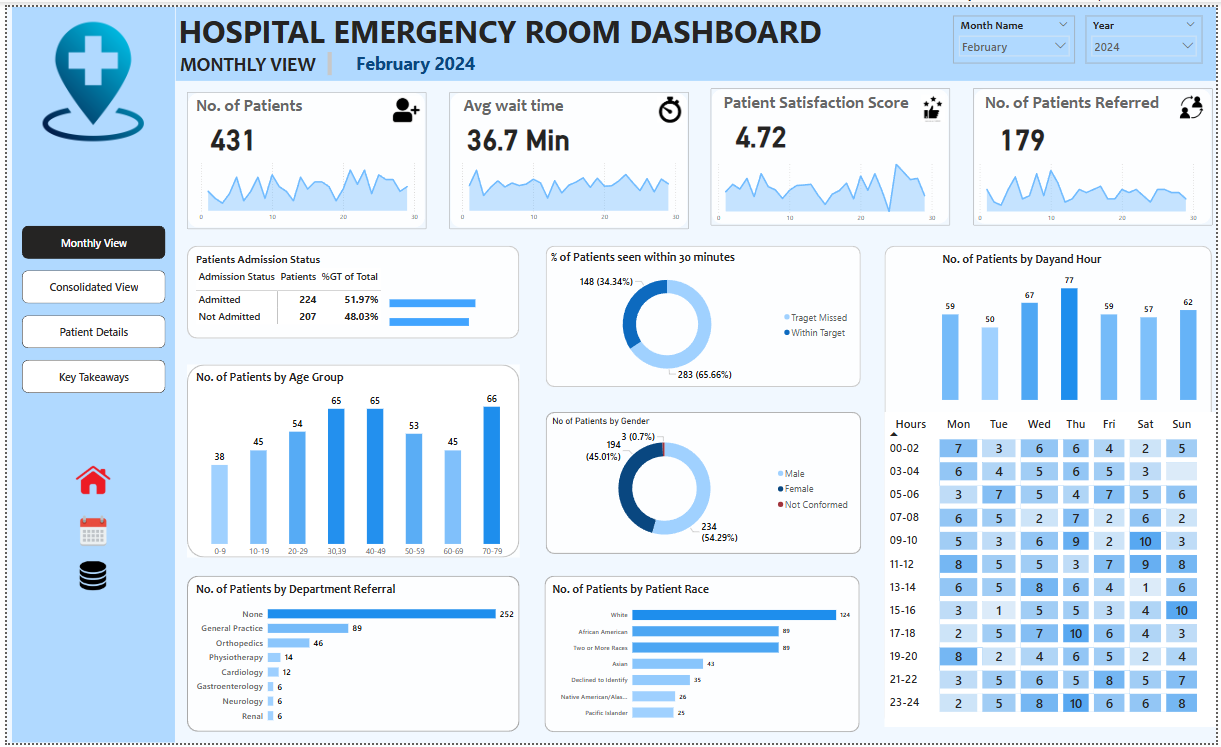

What the dashboard file says about the page in this screenshot:
{"tool":"powerbi","page":{"name":"Page 1","canvas":[2300,1400],"ordinal":0},"visuals":[{"type":"shape","box":[343.2,160.7,455,260.5],"z":0},{"type":"shape","box":[10,0,310,1399],"z":1000},{"type":"shape","box":[320.5,0,1980,140.5],"z":2000},{"type":"textbox","box":[321.3,0,1258.6,126.6],"z":3000},{"type":"textbox","box":[355.4,160.7,236.1,63.3],"z":4000},{"type":"card","fields":{"Values":["Hospital ER_Data.No. of Patients"]},"box":[355.4,199.6,153.4,92.5],"z":5000},{"type":"slicer","fields":{"Values":["Date Table.Year"]},"box":[2052.2,17,221.5,90.1],"z":6000},{"type":"slicer","fields":{"Values":["Date Table.Month"]},"box":[1799,17,231.3,90.1],"z":7000},{"type":"textbox","box":[321.3,77.9,299.4,56],"z":8000},{"type":"card","fields":{"Values":["Min(Date Table.Month & Year)"]},"box":[640.2,70.6,275.1,70.6],"z":9000},{"type":"areaChart","fields":{"Category":["Date Table.Date.Variation.Date Hierarchy.Day"],"Y":["Hospital ER_Data.No. of Patients"]},"box":[355.4,282.4,435.8,133.9],"z":10000},{"type":"shape","box":[841.2,160.7,455,260.5],"z":11000},{"type":"textbox","box":[864.2,160.7,990.8,63.3],"z":12000},{"type":"card","fields":{"Values":["Hospital ER_Data.Avg wait time"]},"box":[842.3,199.6,262.9,92.5],"z":13000},{"type":"areaChart","fields":{"Category":["Date Table.Date.Variation.Date Hierarchy.Day"],"Y":["Avg(Hospital ER_Data.Patient Waittime)"]},"box":[852,282.4,435.8,133.9],"z":14000},{"type":"shape","box":[1339.1,155.1,455,260.5],"z":15000},{"type":"textbox","box":[1358.4,155.8,394.4,63.3],"z":16000},{"type":"card","fields":{"Values":["Hospital ER_Data.Satisfaction Score"]},"box":[1358.4,194.8,153.4,92.5],"z":17000},{"type":"areaChart","fields":{"Category":["Date Table.Date.Variation.Date Hierarchy.Day"],"Y":["Hospital ER_Data.Satisfaction Score"]},"box":[1339,285.8,435.8,133.9],"z":18000},{"type":"shape","box":[1837,155.4,455,260.5],"z":19000},{"type":"textbox","box":[1855,155.8,374.9,63.3],"z":20000},{"type":"card","fields":{"Values":["Hospital ER_Data.No of Patients Reffered"]},"box":[1855,199.6,153.4,92.5],"z":21000},{"type":"shape","box":[342.6,455.3,631.9,176.6],"z":21500},{"type":"areaChart","fields":{"Category":["Date Table.Date.Variation.Date Hierarchy.Day"],"Y":["Hospital ER_Data.No of Patients Reffered"]},"box":[1835.8,286.1,435.8,133.9],"z":22000},{"type":"shape","box":[1022.4,465,600,270],"z":23000},{"type":"pivotTable","title":"Patients Admission Status","fields":{"Rows":["Hospital ER_Data.Admission Status"],"Values":["Hospital ER_Data.No. of Patients","Divide(Hospital ER_Data.No. of Patients, ScopedEval(Hospital ER_Data.No. of Patients, []))"]},"box":[355.3,466,597.9,166],"z":24000},{"type":"barChart","fields":{"Category":["Hospital ER_Data.Admission Status"],"Y":["Hospital ER_Data.No. of Patients"]},"box":[723,525.8,228.8,107.1],"z":25000},{"type":"shape","box":[343.2,679.2,632.9,367.6],"z":26000},{"type":"clusteredColumnChart","fields":{"Category":["Hospital ER_Data.Age Group"],"Y":["Hospital ER_Data.No. of Patients"]},"box":[355.4,679.2,618.3,367.6],"z":27000},{"type":"shape","box":[343.2,1080.9,632.9,297],"z":28000},{"type":"barChart","fields":{"Category":["Hospital ER_Data.Department Referral"],"Y":["Hospital ER_Data.No. of Patients"]},"box":[355.4,1093,618.3,280],"z":29000},{"type":"donutChart","title":"% of Patients seen within 30 minutes","fields":{"Category":["Hospital ER_Data.Waittime Status"],"Y":["Hospital ER_Data.No. of Patients"]},"box":[1029.7,472.3,581.8,258],"z":31000},{"type":"shape","box":[1023.9,769.4,600,270],"z":32000},{"type":"donutChart","title":"No of Patients by Gender","fields":{"Category":["Hospital ER_Data.Patient Gender"],"Y":["Hospital ER_Data.No. of Patients"]},"box":[1031.2,776.7,581.8,258],"z":33000},{"type":"shape","box":[1023.4,1080.9,600,297.9],"z":34000},{"type":"barChart","fields":{"Y":["Hospital ER_Data.No. of Patients"],"Category":["Hospital ER_Data.Patient Race"]},"box":[1031.9,1093.6,578.7,276.6],"z":35000}]}

Visuals, with their boxes in screenshot pixels (x1, y1, x2, y2), scaled from the page's 2300x1400 canvas onto the 1221x747 screenshot:
shape: rect(182, 86, 424, 225)
shape: rect(5, 0, 170, 746)
shape: rect(170, 0, 1220, 75)
textbox: rect(171, 0, 839, 68)
textbox: rect(189, 86, 314, 120)
card - Hospital ER_Data.No. of Patients: rect(189, 107, 270, 156)
slicer - Date Table.Year: rect(1089, 9, 1207, 57)
slicer - Date Table.Month: rect(955, 9, 1078, 57)
textbox: rect(171, 42, 330, 71)
card - Min(Date Table.Month & Year): rect(340, 38, 486, 75)
areaChart - Date Table.Date.Variation.Date Hierarchy.Day x Hospital ER_Data.No. of Patients: rect(189, 151, 420, 222)
shape: rect(447, 86, 688, 225)
textbox: rect(459, 86, 985, 120)
card - Hospital ER_Data.Avg wait time: rect(447, 107, 587, 156)
areaChart - Date Table.Date.Variation.Date Hierarchy.Day x Avg(Hospital ER_Data.Patient Waittime): rect(452, 151, 684, 222)
shape: rect(711, 83, 952, 222)
textbox: rect(721, 83, 931, 117)
card - Hospital ER_Data.Satisfaction Score: rect(721, 104, 803, 153)
areaChart - Date Table.Date.Variation.Date Hierarchy.Day x Hospital ER_Data.Satisfaction Score: rect(711, 152, 942, 224)
shape: rect(975, 83, 1217, 222)
textbox: rect(985, 83, 1184, 117)
card - Hospital ER_Data.No of Patients Reffered: rect(985, 107, 1066, 156)
shape: rect(182, 243, 517, 337)
areaChart - Date Table.Date.Variation.Date Hierarchy.Day x Hospital ER_Data.No of Patients Reffered: rect(975, 153, 1206, 224)
shape: rect(543, 248, 861, 392)
"Patients Admission Status" pivotTable: rect(189, 249, 506, 337)
barChart - Hospital ER_Data.Admission Status x Hospital ER_Data.No. of Patients: rect(384, 281, 505, 338)
shape: rect(182, 362, 518, 559)
clusteredColumnChart - Hospital ER_Data.Age Group x Hospital ER_Data.No. of Patients: rect(189, 362, 517, 559)
shape: rect(182, 577, 518, 735)
barChart - Hospital ER_Data.Department Referral x Hospital ER_Data.No. of Patients: rect(189, 583, 517, 733)
"% of Patients seen within 30 minutes" donutChart: rect(547, 252, 855, 390)
shape: rect(544, 411, 862, 555)
"No of Patients by Gender" donutChart: rect(547, 414, 856, 552)
shape: rect(543, 577, 862, 736)
barChart - Hospital ER_Data.No. of Patients x Hospital ER_Data.Patient Race: rect(548, 584, 855, 731)
